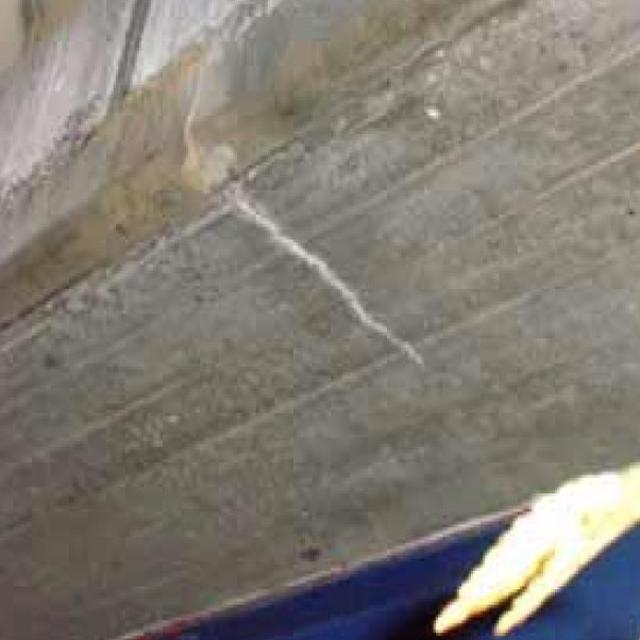freelime: (173, 138, 431, 373)
